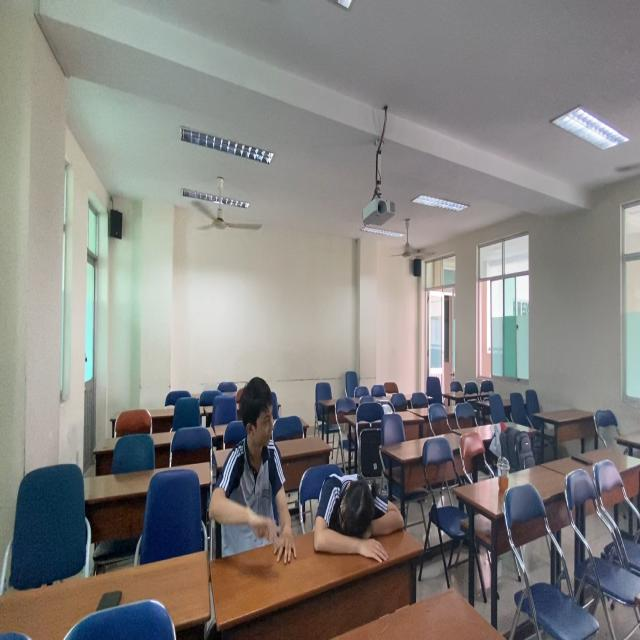sleep: (311, 461, 408, 569)
